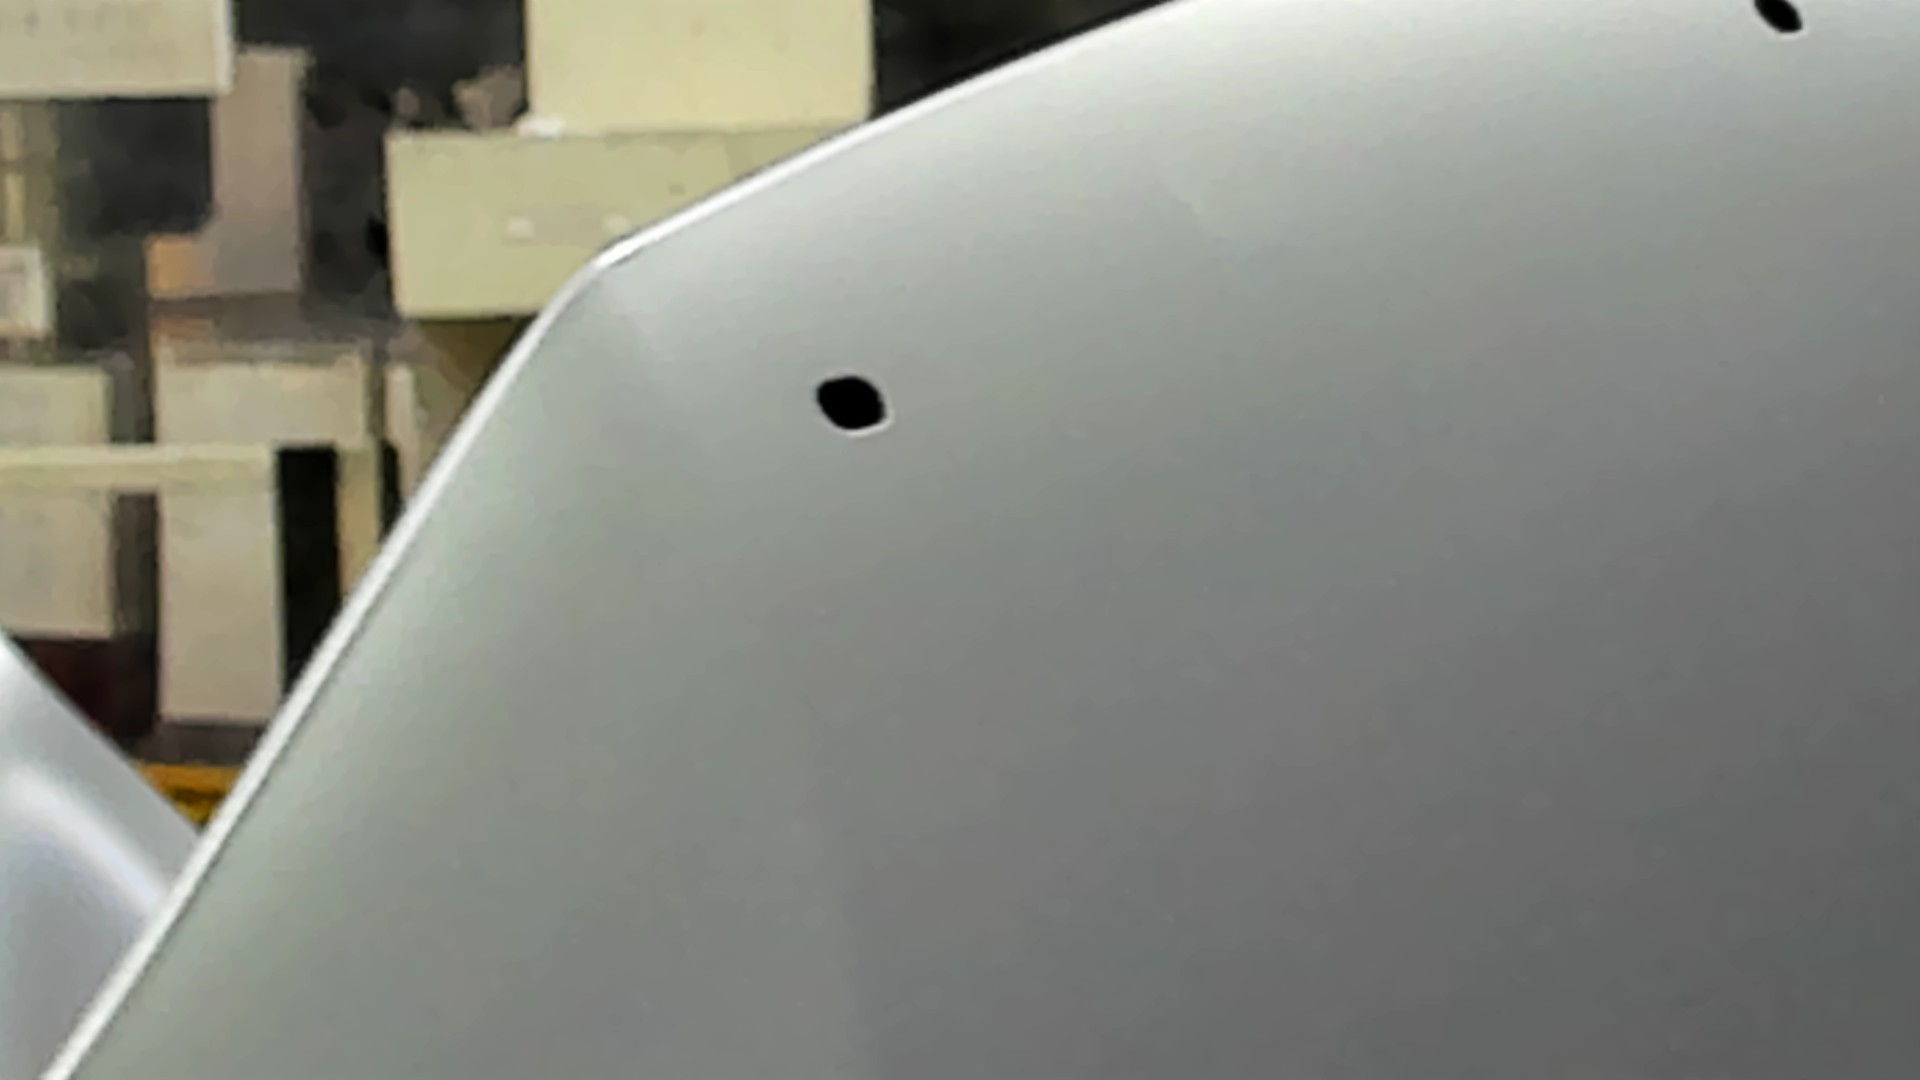amorfo: (800, 367, 899, 442), (1750, 1, 1807, 46)
